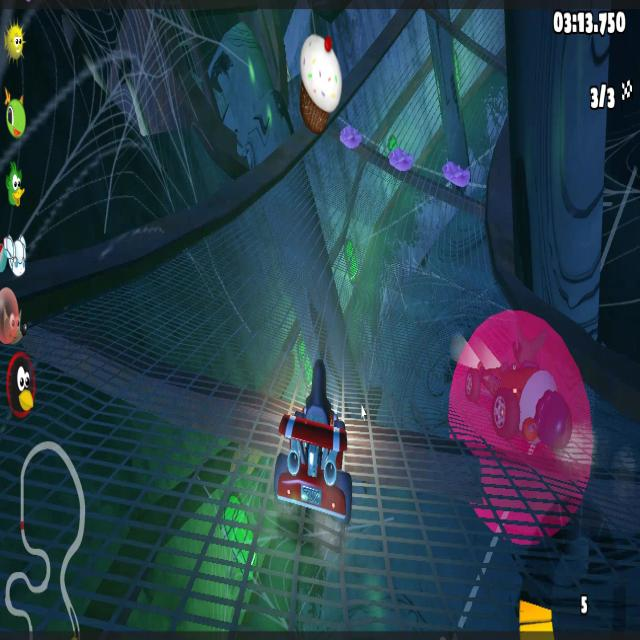obstacle: (384, 138, 415, 176), (443, 161, 473, 195), (343, 118, 363, 159)
player_kart: (274, 365, 356, 534)
track: (3, 510, 640, 640), (0, 315, 275, 500), (388, 374, 640, 502), (418, 12, 515, 143), (384, 296, 571, 360), (272, 184, 354, 316), (357, 169, 386, 502), (388, 192, 492, 282), (192, 236, 274, 310), (133, 253, 194, 320), (366, 69, 417, 142), (243, 205, 273, 232)
